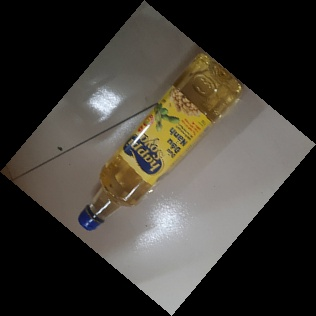Happy Soya: (75, 49, 247, 233)
